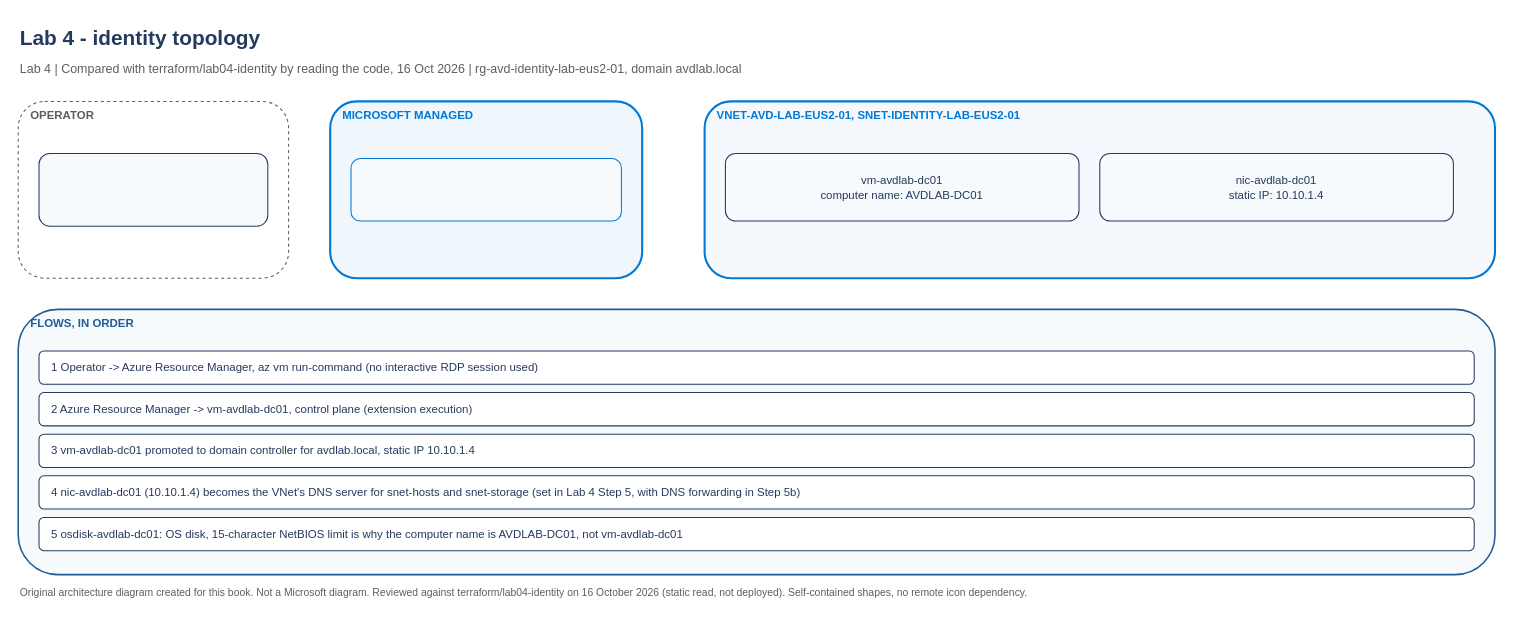
Some shapes in this 1514 by 618 pixel diagram are drawn without their labels. Each missing label, with the centre of its shape:
az vm run-command no RDP needed: point (153, 189)
Azure Resource Manager: point (485, 189)
